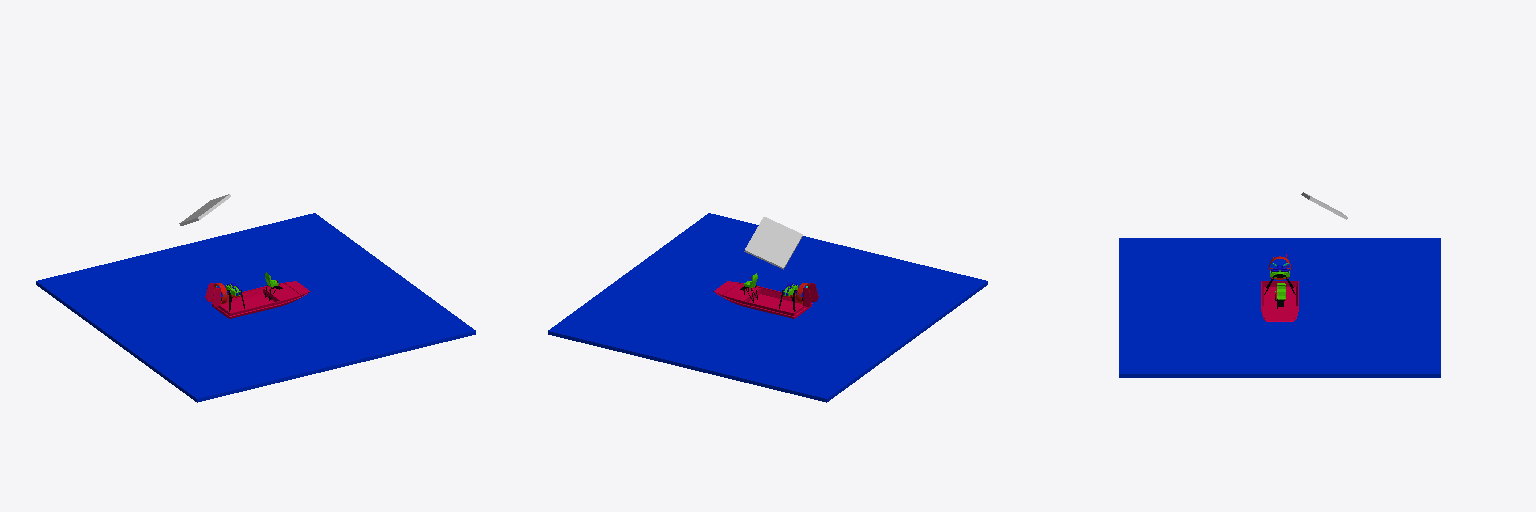
File: airboat.obj
The picture shows the model from 3 angles: view 1: azimuth 30°, elevation 25°; view 2: azimuth 150°, elevation 25°; view 3: azimuth 270°, elevation 25°; orthographic projection.
Visible parts, largest first — view 1: Cube.001_Cube.002, airboat; view 2: Cube.001_Cube.002, airboat, Cube_Cube.001; view 3: Cube.001_Cube.002, airboat.
Boxes of the visible parts, x1,y1,x2,y2 form: Cube.001_Cube.002: [36, 213, 475, 402]; airboat: [205, 272, 310, 318]; Cube.001_Cube.002: [548, 213, 987, 402]; airboat: [713, 273, 818, 318]; Cube_Cube.001: [744, 217, 802, 269]; Cube.001_Cube.002: [1119, 238, 1440, 377]; airboat: [1261, 254, 1298, 321].
Size of the model in its own units: 47.64 by 17.47 by 47.64.